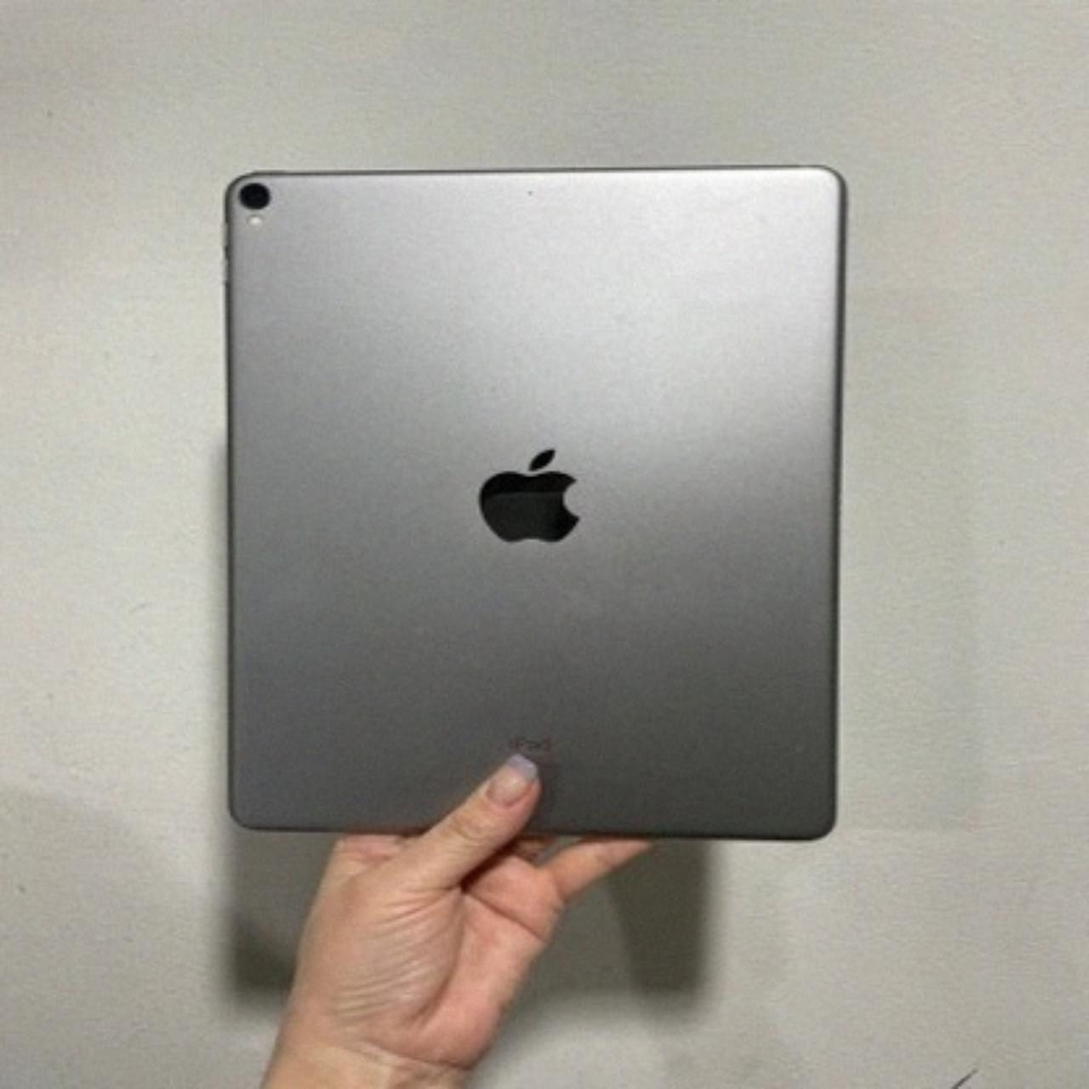Tablet_PC: (212, 147, 874, 855)
